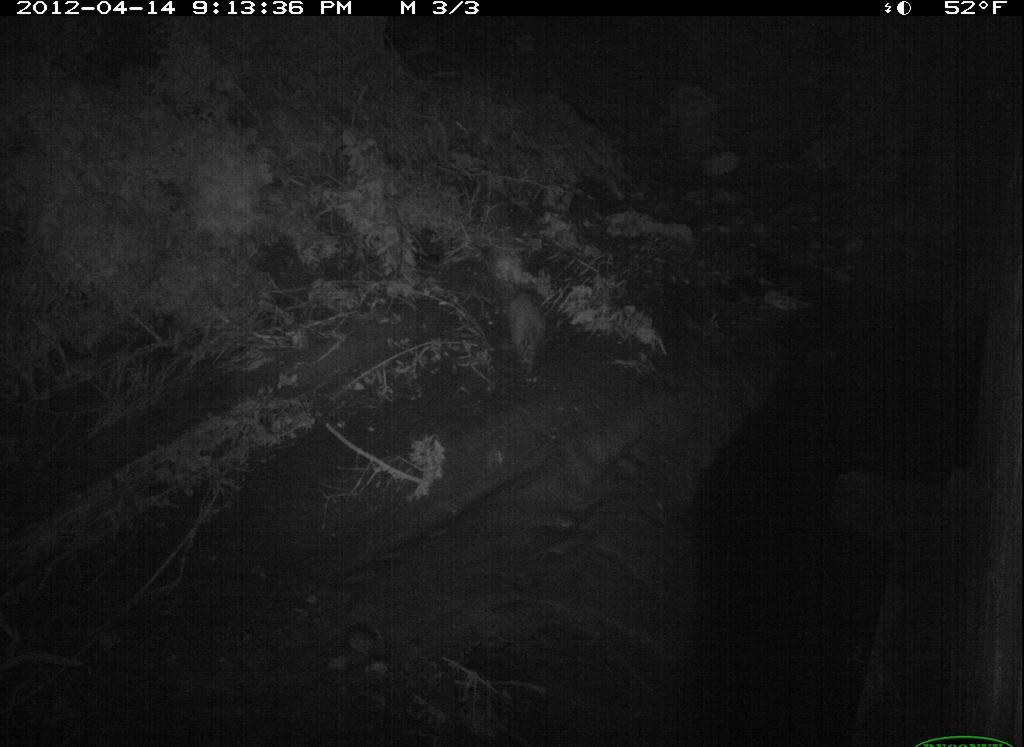opossum: (501, 280, 559, 386)
